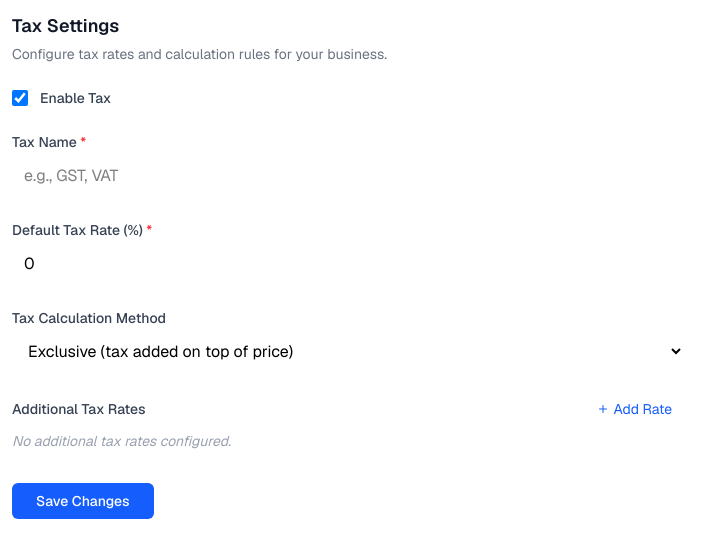
Test: TaxSettings › Validates required fields and rate range › shows error when default tax rate is negative
Step 1. Type "GST" into the field labelled "Tax Name *" → [348, 176], box 12,156 -> 684,196
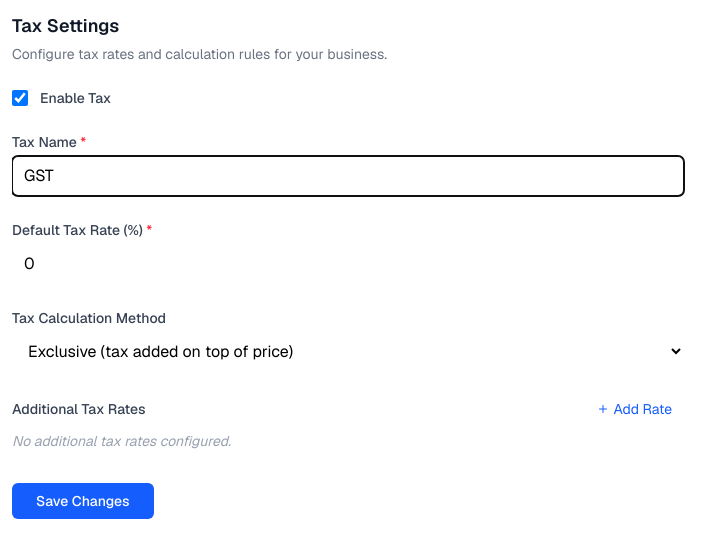
Step 2. Replace the text in the number field labelled "Default Tax Rate (%) *" with "-5" → [348, 264], box 12,244 -> 684,284
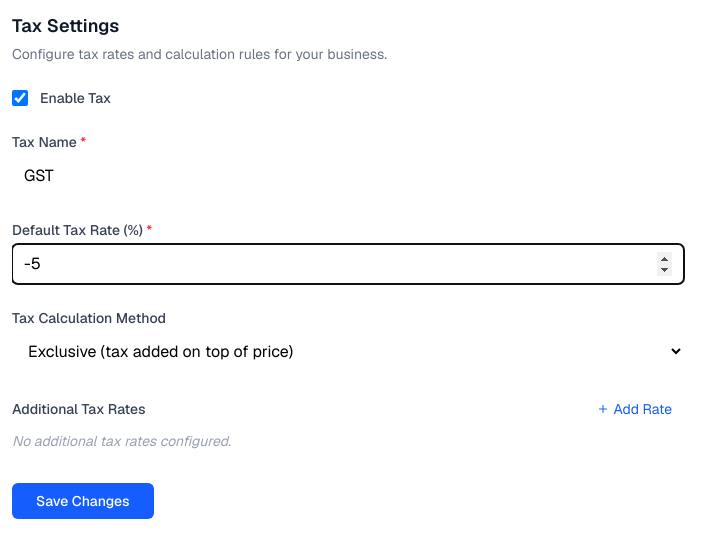
Step 3. Click the button "Save Changes" → [83, 501], box 12,483 -> 154,519
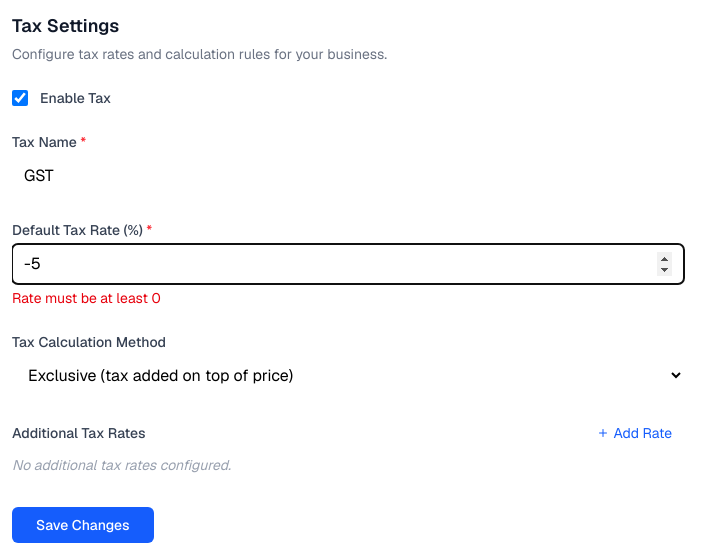
Check: the text "Rate must be at least 0" is shown, box 12,289 -> 161,307
